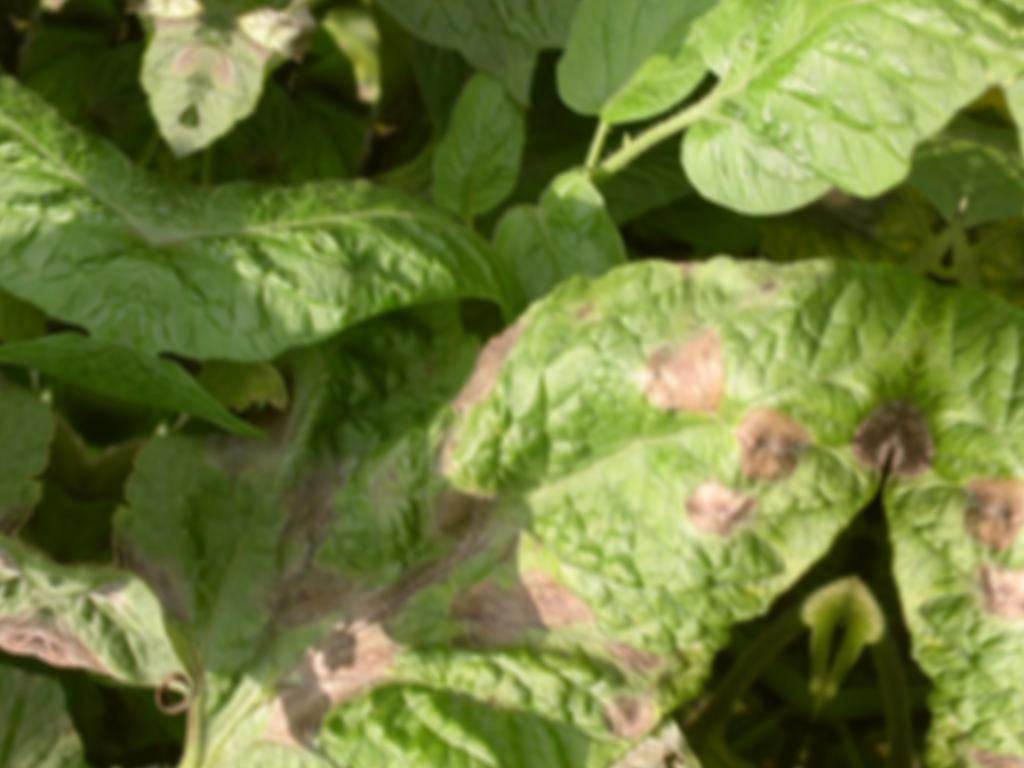Tomato leaf late blight: (151, 114, 926, 768), (301, 0, 669, 112)
